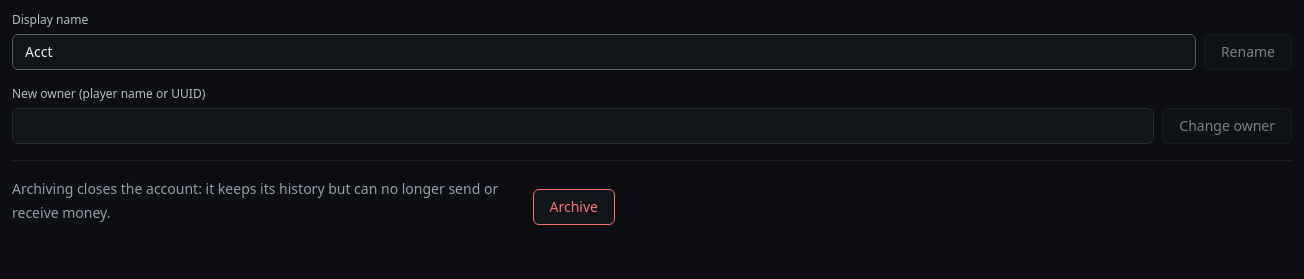
Test: AccountAdminPanel as admin › changes owner with the raw identifier
The image size is (1304, 279).
Expected: the button "Change owner" is disabled, x1=1162 y1=108 x2=1292 y2=144
Type "Notch" into the field labelled "New owner".
click(583, 126); type("Notch")  # box x1=12 y1=108 x2=1154 y2=144
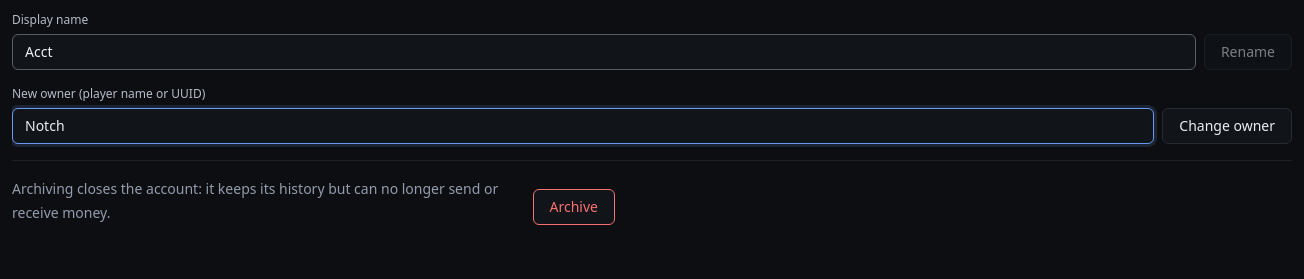
Click the button "Change owner".
click(1227, 126)  # box x1=1162 y1=108 x2=1292 y2=144
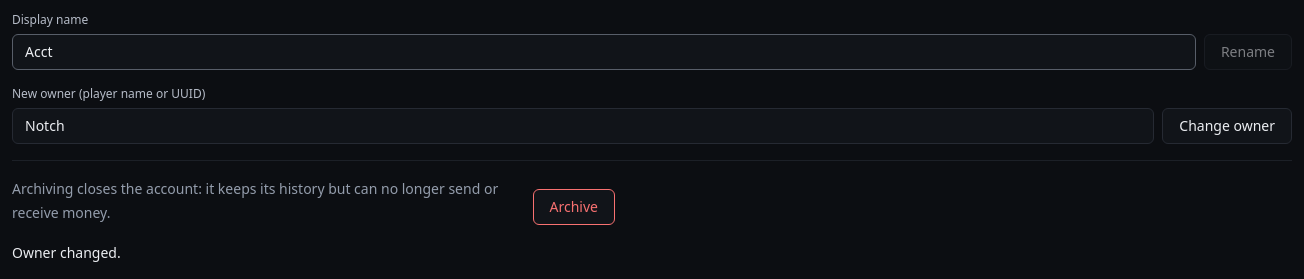
Expected: the text "Owner changed." is shown, x1=12 y1=243 x2=121 y2=262
